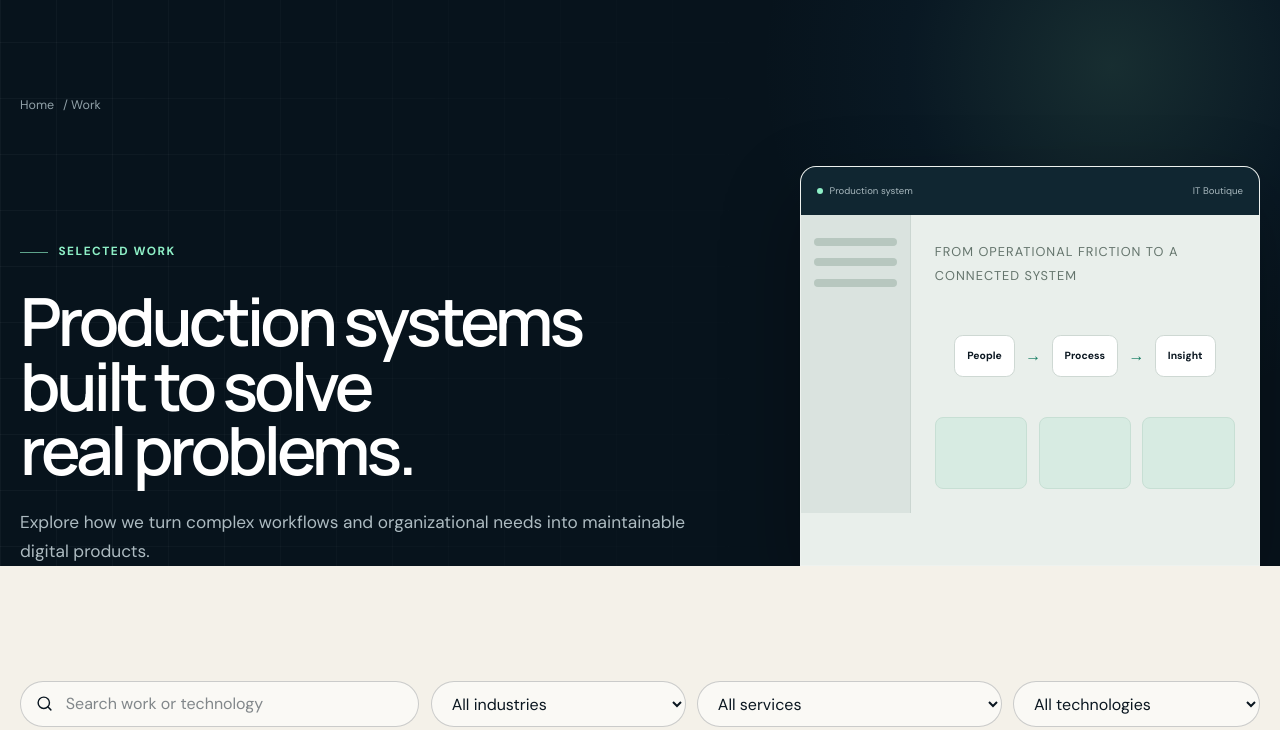
Scenario: work filters › filters structured projects by industry and clears filters
Select "Education" in the dropdown named "Filter by industry" at (558, 704), box x1=431 y1=682 x2=686 y2=727
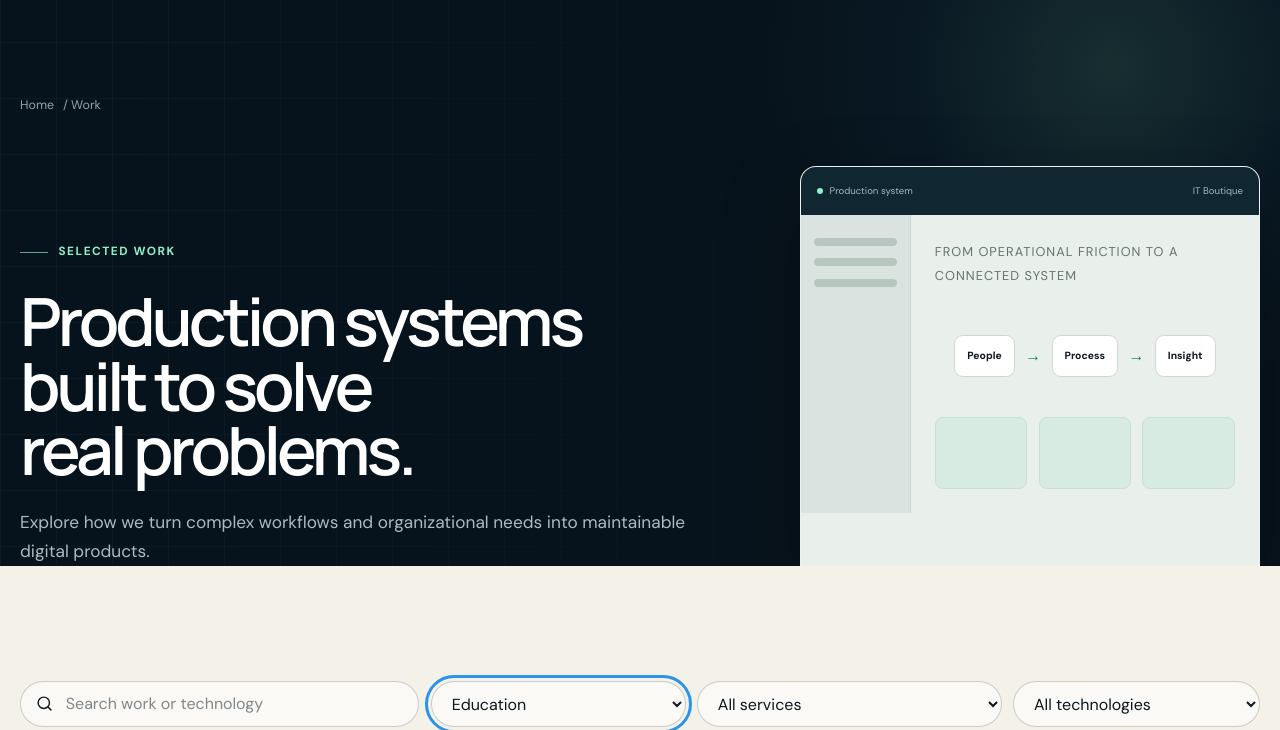
Select "All industries" in the dropdown named "Filter by industry" at (558, 704), box x1=431 y1=682 x2=686 y2=727
(page scrolled)
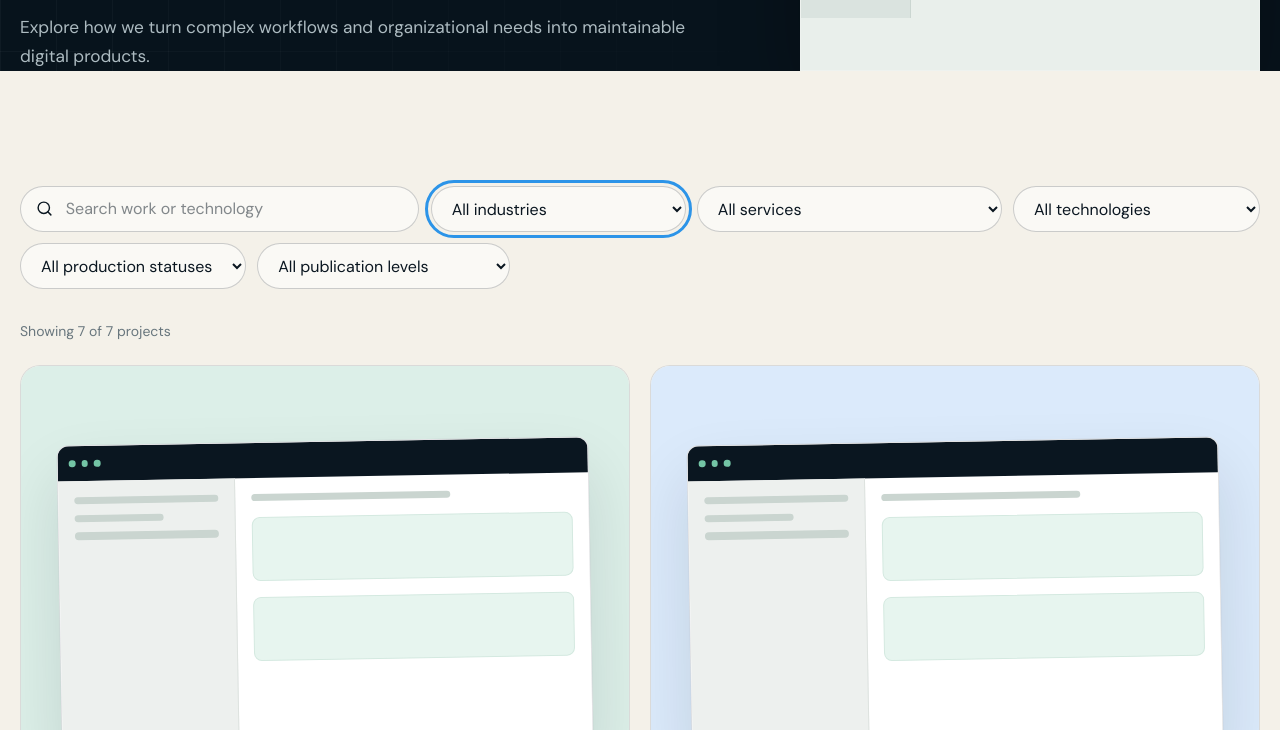
Expected: the text "Showing 7 of 7 projects" is shown, x1=20 y1=322 x2=171 y2=340
